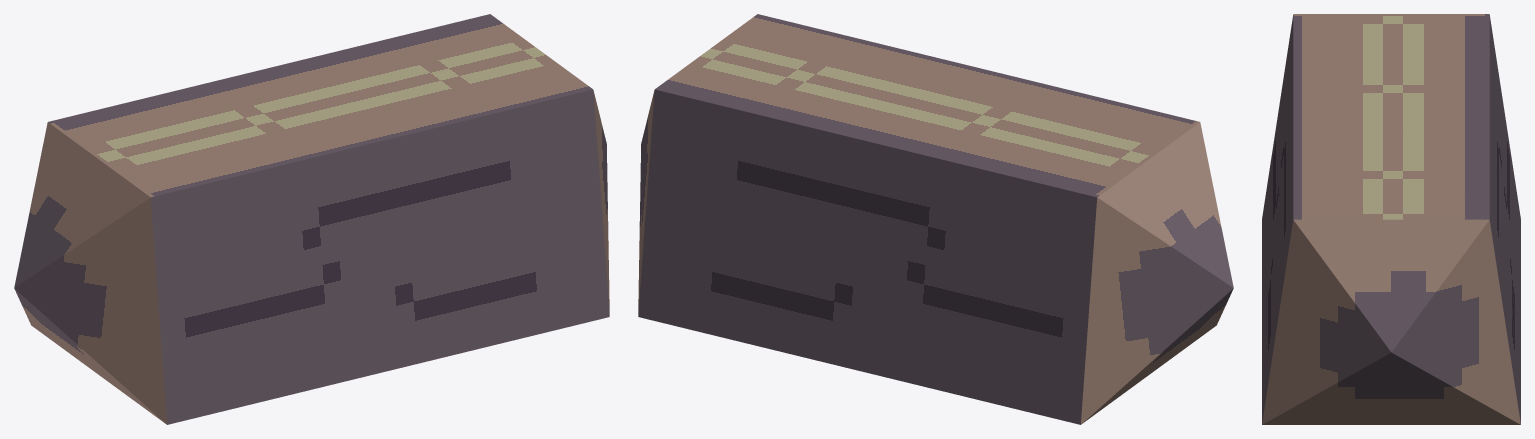
File: turtle_arm.glb
3 renders of one model, left to right at view 1: azimuth 30°, elevation 25°; view 2: azimuth 150°, elevation 25°; view 3: azimuth 270°, elevation 25°, orthographic. The views are drawn at different scales.
Visible parts, largest first — view 1: Cube.071; view 2: Cube.071; view 3: Cube.071.
Part boxes in pixels (x1=…): Cube.071: x1=14, y1=14, x2=609, y2=424; Cube.071: x1=638, y1=14, x2=1233, y2=424; Cube.071: x1=1262, y1=14, x2=1520, y2=424.
Bounding box in the file's own units: 2.68 × 0.9306 × 1.06.
1 material, 1 textured.
